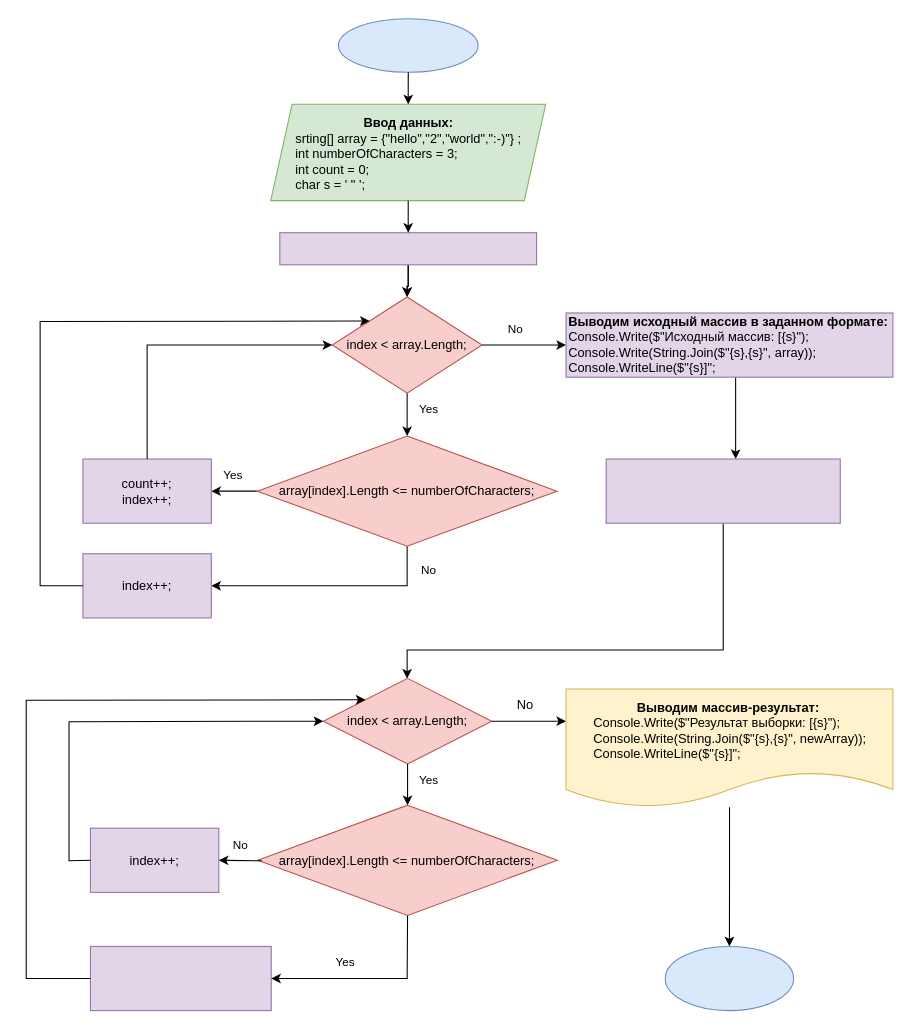
Image size: 912x1029. Some labels were removed from this diagram. The centre of each missing label's shape, as x and y in pixels:
"index = 0" goes at (408,248).
"newArray[count2] = array[i]; count2++; index++;" goes at (180,978).
"string[] newArray = new string [count]; int count2 = 0; index = 0;" goes at (722,490).
"Конец алгоритма" goes at (729,978).
"Начало алгоритма" goes at (407,45).
